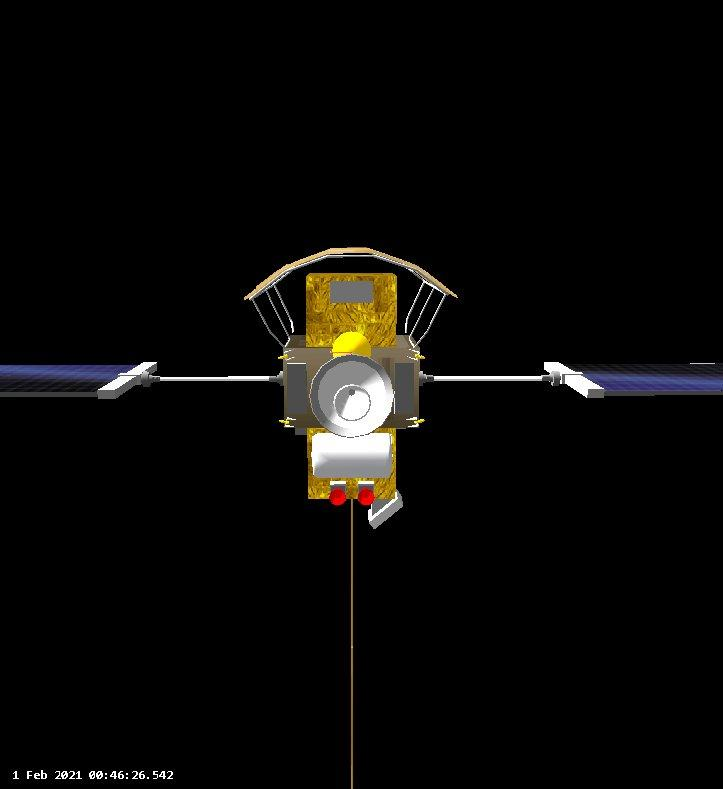antenna: (347, 497, 356, 789), (367, 486, 406, 533)
body: (280, 264, 422, 506)
solar: (542, 359, 723, 402), (0, 361, 163, 401)
thruster: (332, 383, 372, 424), (328, 482, 348, 509), (357, 480, 375, 507), (280, 354, 289, 359), (417, 418, 426, 423), (281, 420, 290, 425), (413, 419, 420, 425), (414, 353, 420, 359), (419, 354, 425, 360), (278, 356, 285, 360), (278, 419, 285, 423)
